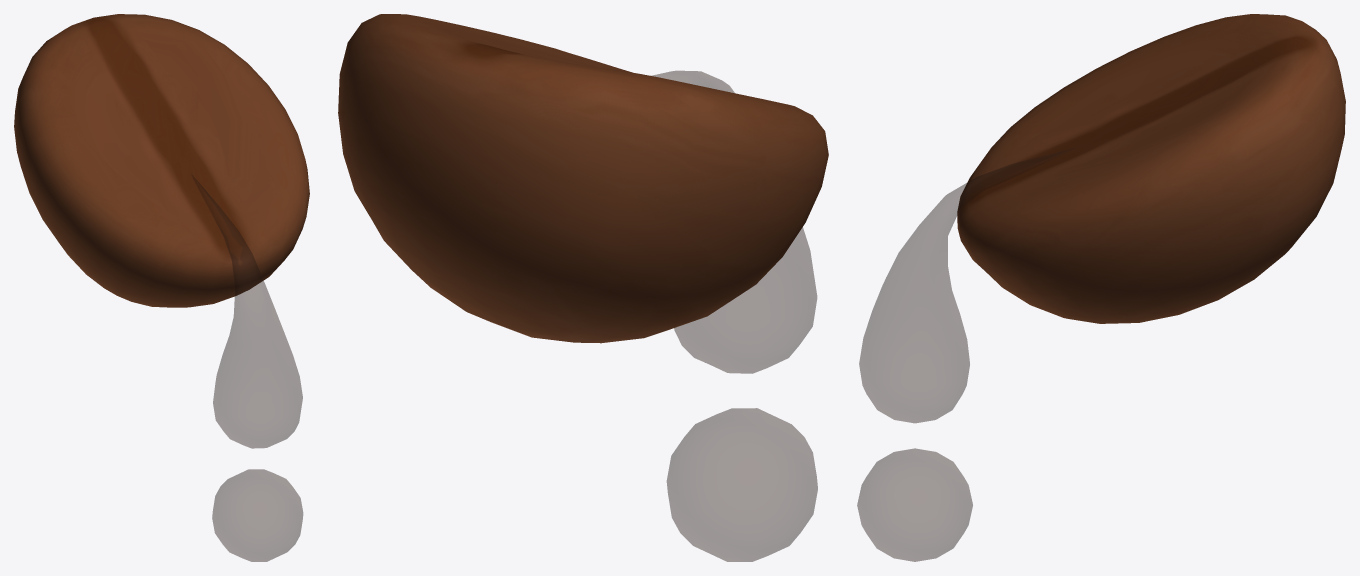
The model's file is coffee_bean.glb.
The picture shows the model from 3 angles, left to right: view 1: azimuth 30°, elevation 25°; view 2: azimuth 150°, elevation 25°; view 3: azimuth 270°, elevation 25°; orthographic projection. The views are drawn at different scales.
Visible parts, largest first — view 1: Coffebean, Drop; view 2: Coffebean, Drop; view 3: Coffebean, Drop.
Part boxes in pixels (x1,y1,x2,y2): Coffebean: (14,14,309,307); Drop: (192,175,302,561); Coffebean: (338,14,828,343); Drop: (652,71,817,561); Coffebean: (957,14,1345,323); Drop: (857,148,1074,561).
Size of the model in its own units: 174 by 286 by 247.
Materials: 2 (2 with a texture image).
